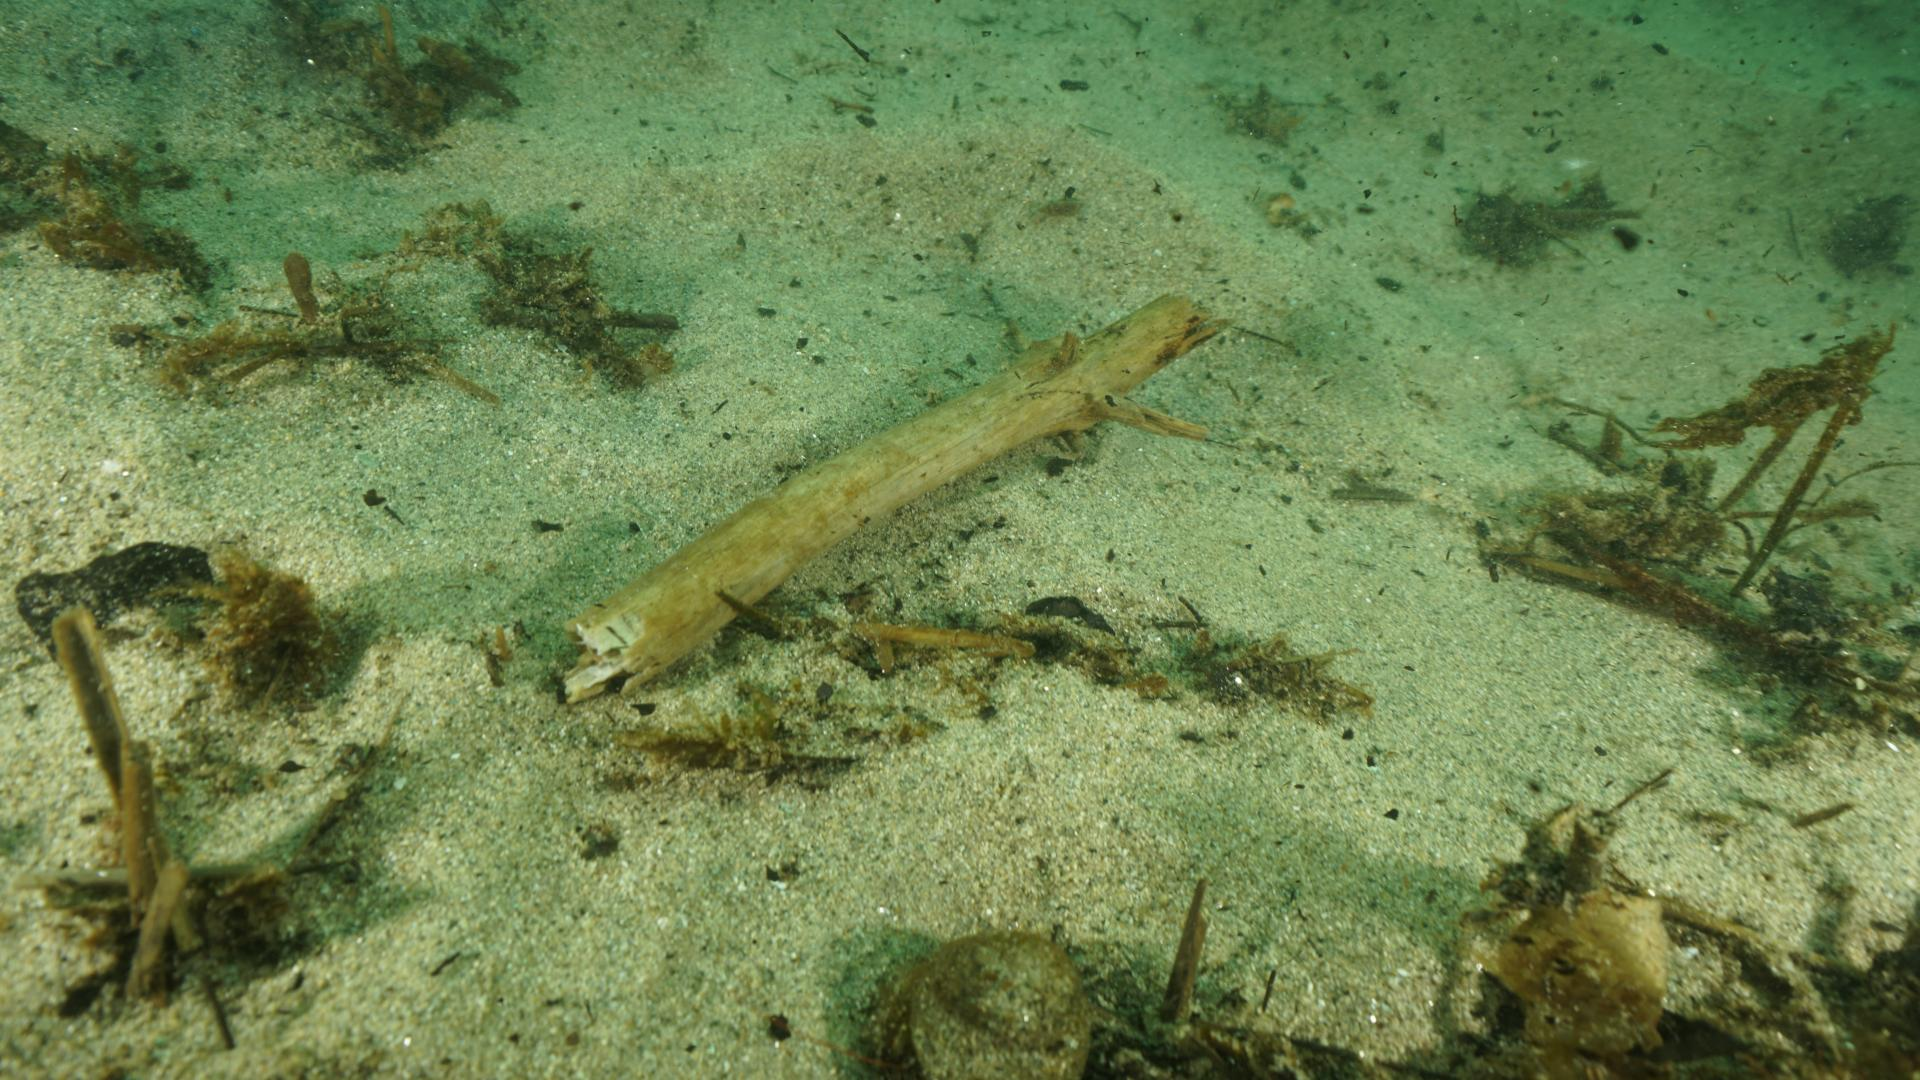wood: (563, 290, 1222, 702)
